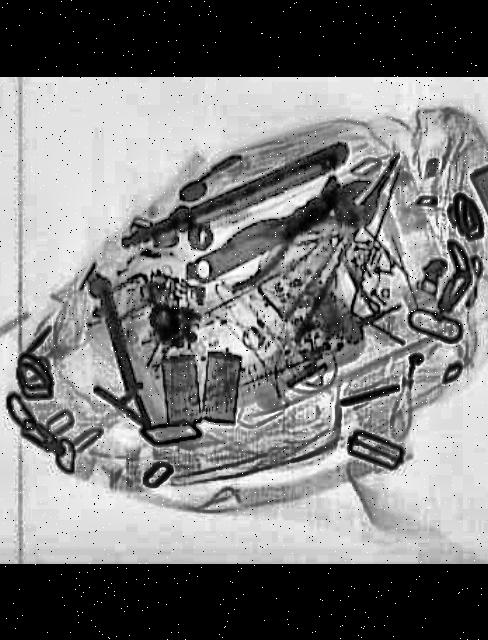Pliers: (273, 150, 407, 346), (195, 174, 355, 300)
Wrench: (176, 172, 394, 296)
